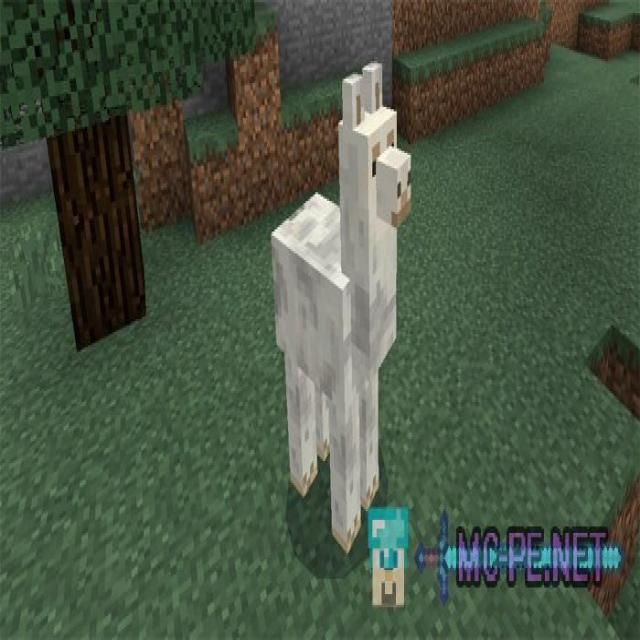Llama: (269, 57, 414, 557)
